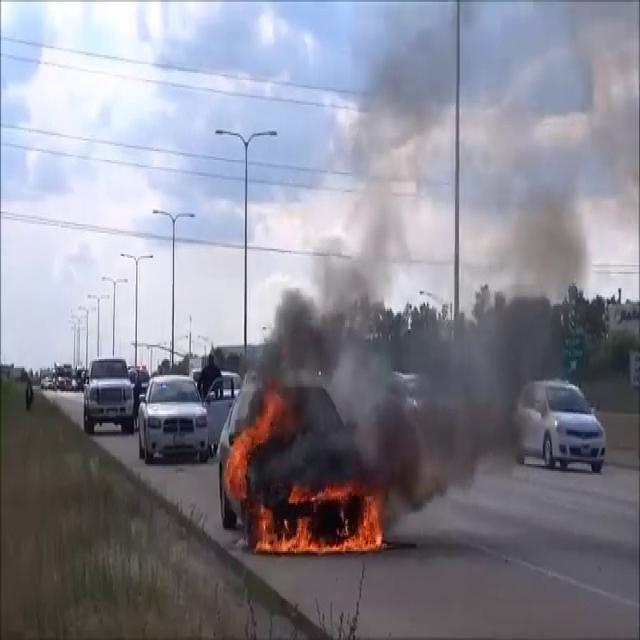Fire: (253, 478, 388, 558), (224, 390, 284, 497)
Smoke: (258, 16, 600, 496)
